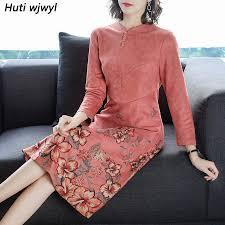dress: (24, 22, 196, 211)
